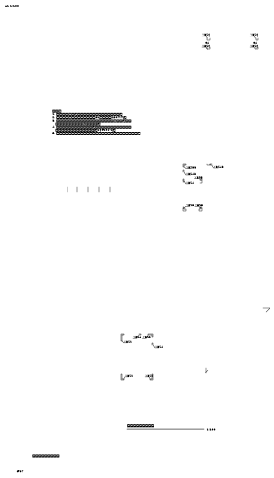wall: (158, 309, 167, 313), (102, 111, 110, 115), (89, 111, 97, 115), (158, 298, 166, 302), (196, 318, 204, 321), (182, 475, 190, 478), (247, 475, 255, 478), (77, 62, 84, 65), (106, 62, 113, 65), (117, 100, 124, 103), (158, 317, 167, 319), (172, 305, 180, 307), (182, 462, 190, 464), (247, 462, 255, 464), (75, 106, 82, 108), (77, 106, 81, 108), (158, 270, 166, 271), (198, 318, 202, 320), (172, 305, 176, 307), (119, 100, 123, 102), (247, 465, 251, 467), (173, 270, 180, 271), (79, 65, 82, 67), (106, 65, 109, 67), (180, 300, 182, 303), (161, 272, 164, 274), (173, 272, 176, 274), (103, 112, 106, 114), (90, 112, 93, 114), (161, 310, 164, 312), (161, 299, 164, 301), (161, 317, 164, 319), (190, 321, 193, 323), (251, 468, 254, 470), (183, 465, 186, 467), (187, 468, 189, 470)
